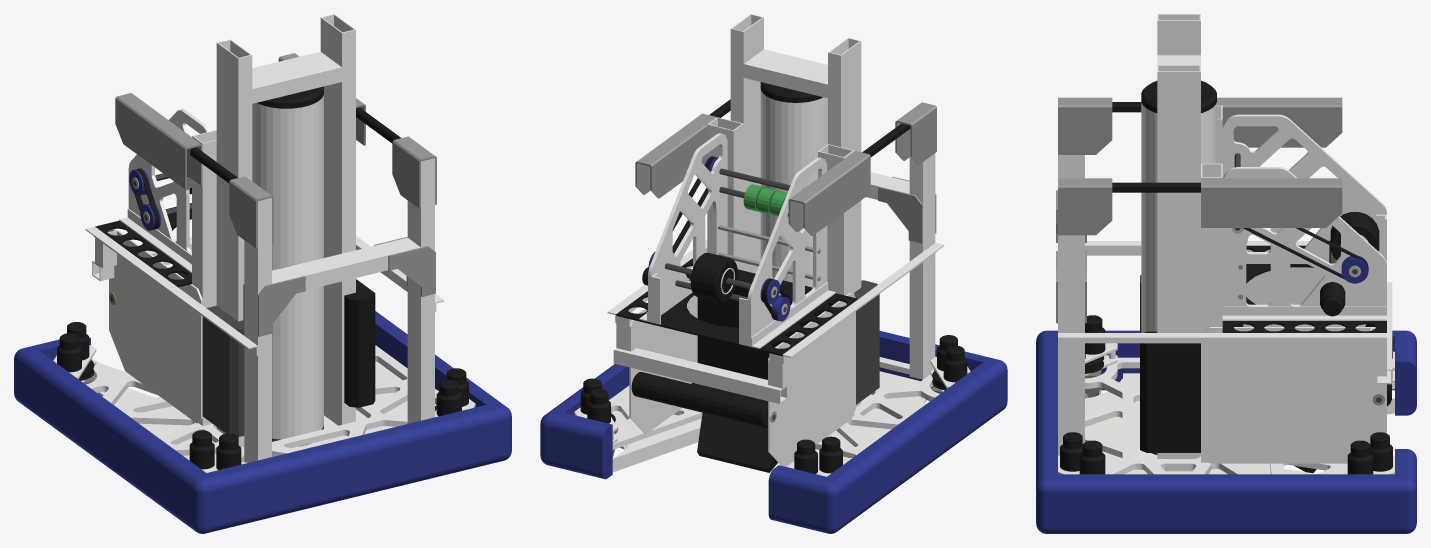
The model's file is FRC4907_Assembly_FBX.fbx.
3 views of the same model, side by side, from view 1: azimuth 30°, elevation 25°; view 2: azimuth 150°, elevation 25°; view 3: azimuth 270°, elevation 25° (orthographic). The views are drawn at different scales.
Visible parts, largest first — view 1: Body1 (×11), Body2 (×10), Body4 (×4), Body5, Body7, Body6; view 2: Body1 (×13), Body2 (×12), Body3 (×4), Body4 (×2), Body12, Body5, Body7, Body8; view 3: Body1 (×18), Body2 (×11), Body3 (×3), Body4 (×2), Body5.
Part boxes in pixels (x1=…): Body1 (×11): x1=14, y1=14, x2=511, y2=533; Body2 (×10): x1=85, y1=39, x2=435, y2=462; Body4 (×4): x1=115, y1=93, x2=461, y2=425; Body5: x1=189, y1=430, x2=214, y2=469; Body7: x1=57, y1=333, x2=81, y2=372; Body6: x1=216, y1=433, x2=241, y2=469; Body1 (×13): x1=540, y1=14, x2=1007, y2=533; Body2 (×12): x1=587, y1=37, x2=944, y2=466; Body3 (×4): x1=635, y1=113, x2=922, y2=388; Body4 (×2): x1=788, y1=144, x2=870, y2=415; Body12: x1=612, y1=430, x2=699, y2=469; Body5: x1=943, y1=345, x2=967, y2=382; Body7: x1=819, y1=436, x2=842, y2=473; Body8: x1=794, y1=439, x2=817, y2=473; Body1 (×18): x1=1036, y1=65, x2=1416, y2=533; Body2 (×11): x1=1058, y1=14, x2=1392, y2=471; Body3 (×3): x1=1079, y1=163, x2=1342, y2=474; Body4 (×2): x1=1060, y1=97, x2=1342, y2=471; Body5: x1=1085, y1=315, x2=1105, y2=354.
Size of the model in its own units: 34 by 42.97 by 35.
